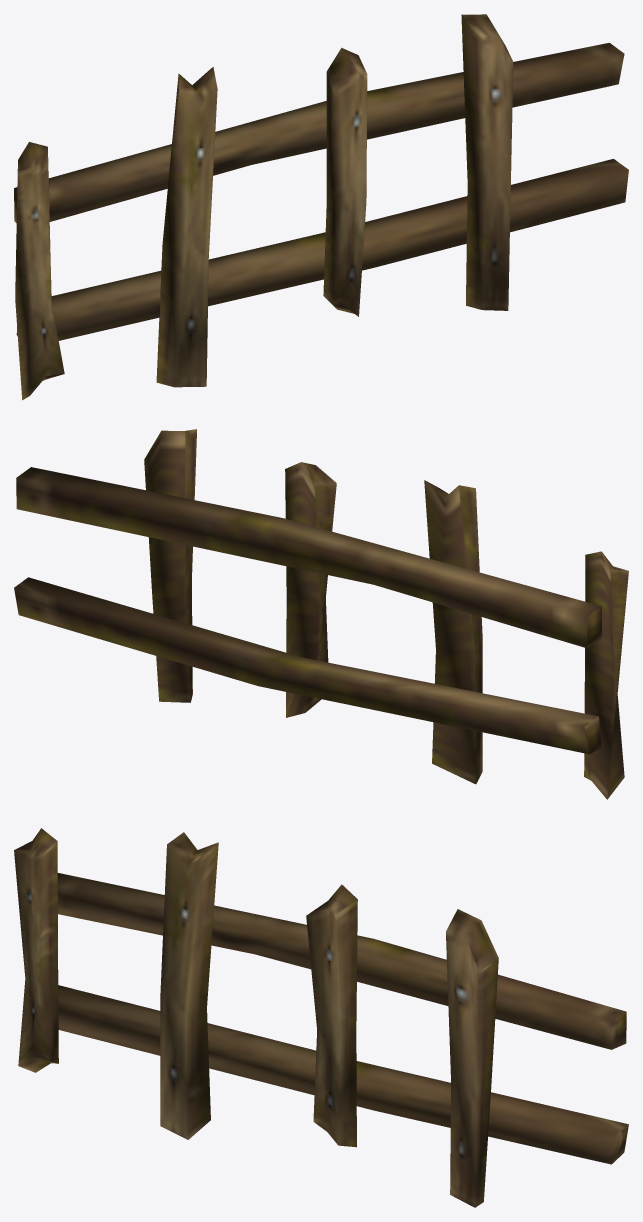
File: Scene_Fences_02_LOD0.FBX
The picture shows the model from 3 angles, top to bottom: view 1: azimuth 30°, elevation 25°; view 2: azimuth 150°, elevation 25°; view 3: azimuth 330°, elevation 25°; orthographic projection. The views are drawn at different scales.
Visible parts, largest first — view 1: Scene_Fences_02; view 2: Scene_Fences_02; view 3: Scene_Fences_02.
Part boxes in pixels (x1,y1,x2,y2): Scene_Fences_02: (14,14,628,400); Scene_Fences_02: (14,429,628,799); Scene_Fences_02: (14,828,628,1207).
Size of the model in its own units: 200 by 95.33 by 18.85.
